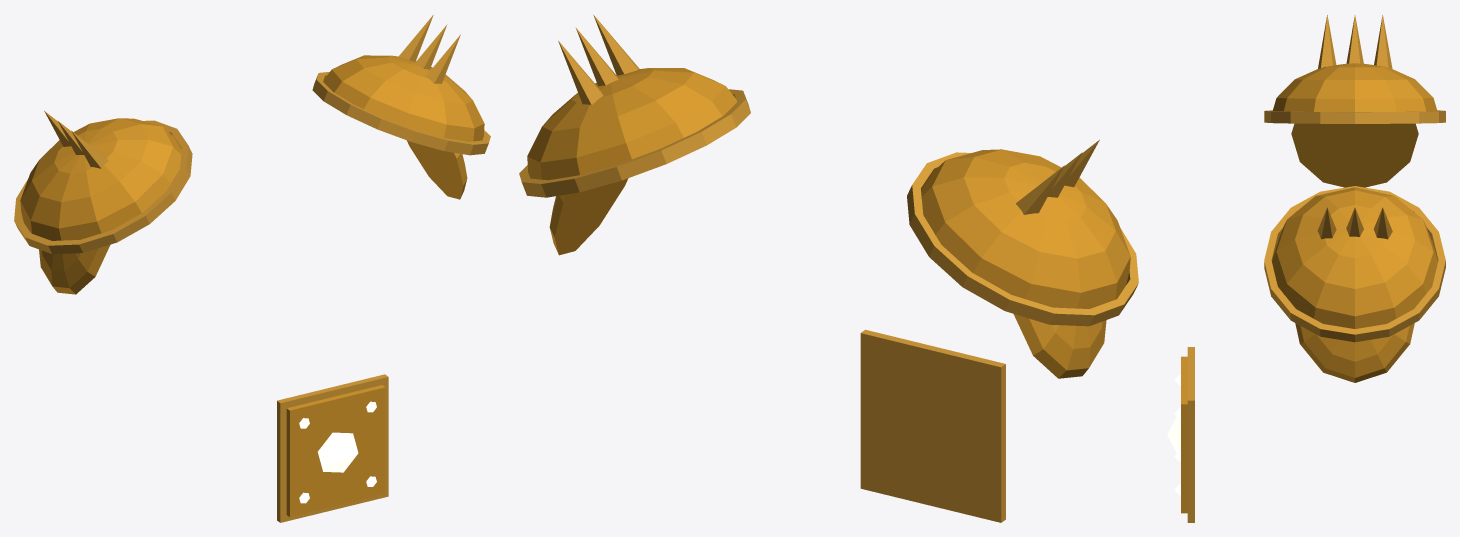
File: armor_knight_chest_legendary_orc.glb
The picture shows the model from 3 angles, left to right: view 1: azimuth 30°, elevation 25°; view 2: azimuth 150°, elevation 25°; view 3: azimuth 270°, elevation 25°; orthographic projection. The views are drawn at different scales.
Parts seen in each view (by area): view 1: armor_knight_chest_legendary_orc__clavicle_r, armor_knight_chest_legendary_orc__clavicle_l, armor_knight_chest_legendary_orc__spine_03; view 2: armor_knight_chest_legendary_orc__clavicle_r, armor_knight_chest_legendary_orc__clavicle_l, armor_knight_chest_legendary_orc__spine_03; view 3: armor_knight_chest_legendary_orc__clavicle_l, armor_knight_chest_legendary_orc__clavicle_r, armor_knight_chest_legendary_orc__spine_03.
Part boxes in pixels (x1,y1,x2,y2): armor_knight_chest_legendary_orc__clavicle_r: [14, 111, 192, 294]; armor_knight_chest_legendary_orc__clavicle_l: [312, 15, 490, 199]; armor_knight_chest_legendary_orc__spine_03: [277, 374, 388, 522]; armor_knight_chest_legendary_orc__clavicle_r: [907, 139, 1138, 378]; armor_knight_chest_legendary_orc__clavicle_l: [519, 14, 750, 255]; armor_knight_chest_legendary_orc__spine_03: [860, 329, 1005, 522]; armor_knight_chest_legendary_orc__clavicle_l: [1264, 186, 1445, 382]; armor_knight_chest_legendary_orc__clavicle_r: [1264, 15, 1445, 187]; armor_knight_chest_legendary_orc__spine_03: [1167, 347, 1194, 522].
Bounding box in the file's own units: 73.09 × 58.14 × 38.05.
